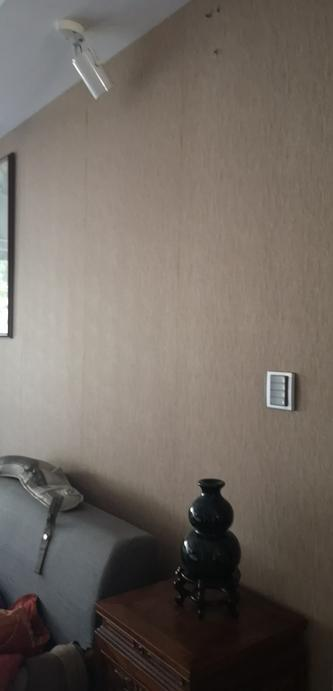switch: (271, 376, 296, 404)
